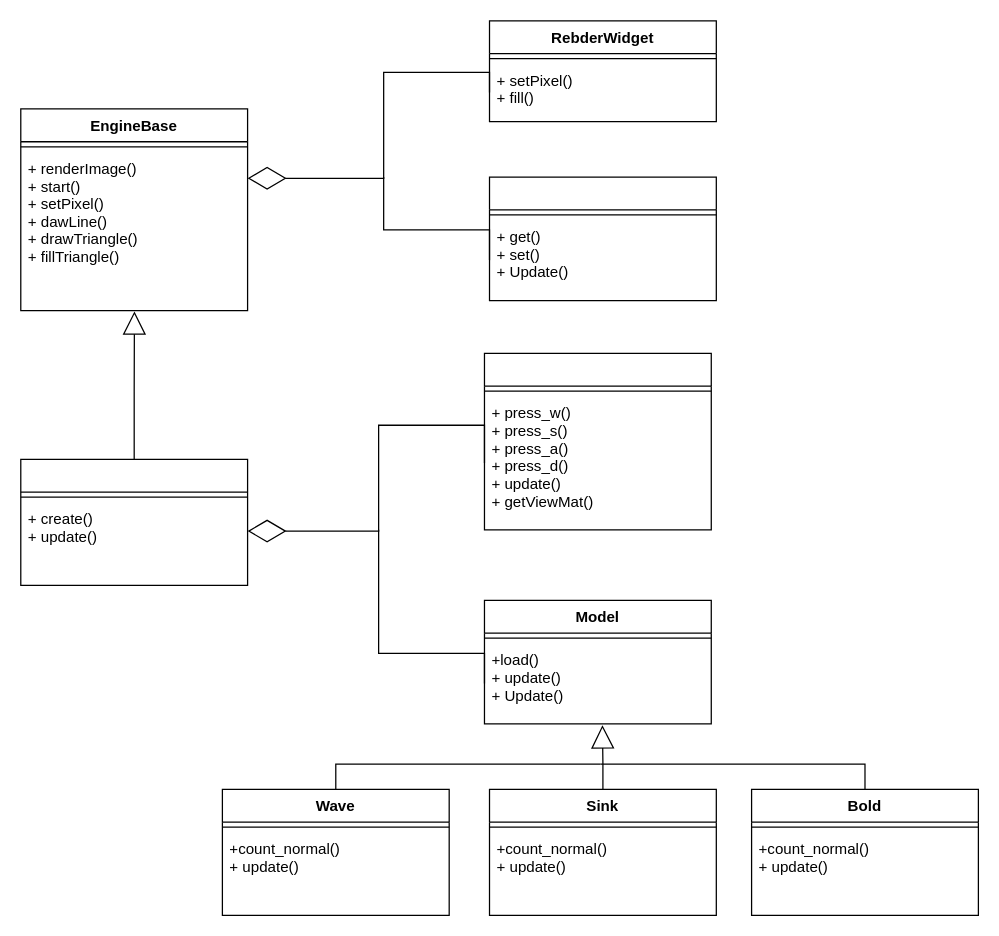
The diagram is 999 pixels wide and 936 high, and some of its shapes have lost their labels. The box of each missing label's shape, as (x1, y1, x2, y2) in pixels:
Camera: (483, 352, 711, 530)
Engine3D: (20, 458, 248, 585)
ZBuffer: (488, 176, 716, 301)
